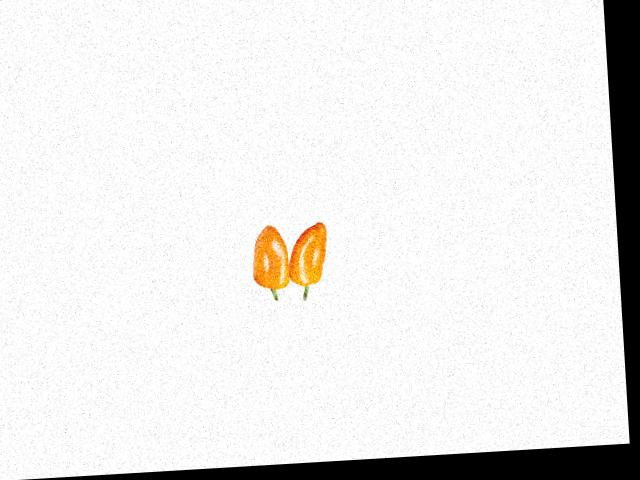bell_pepper: (241, 208, 293, 303)
